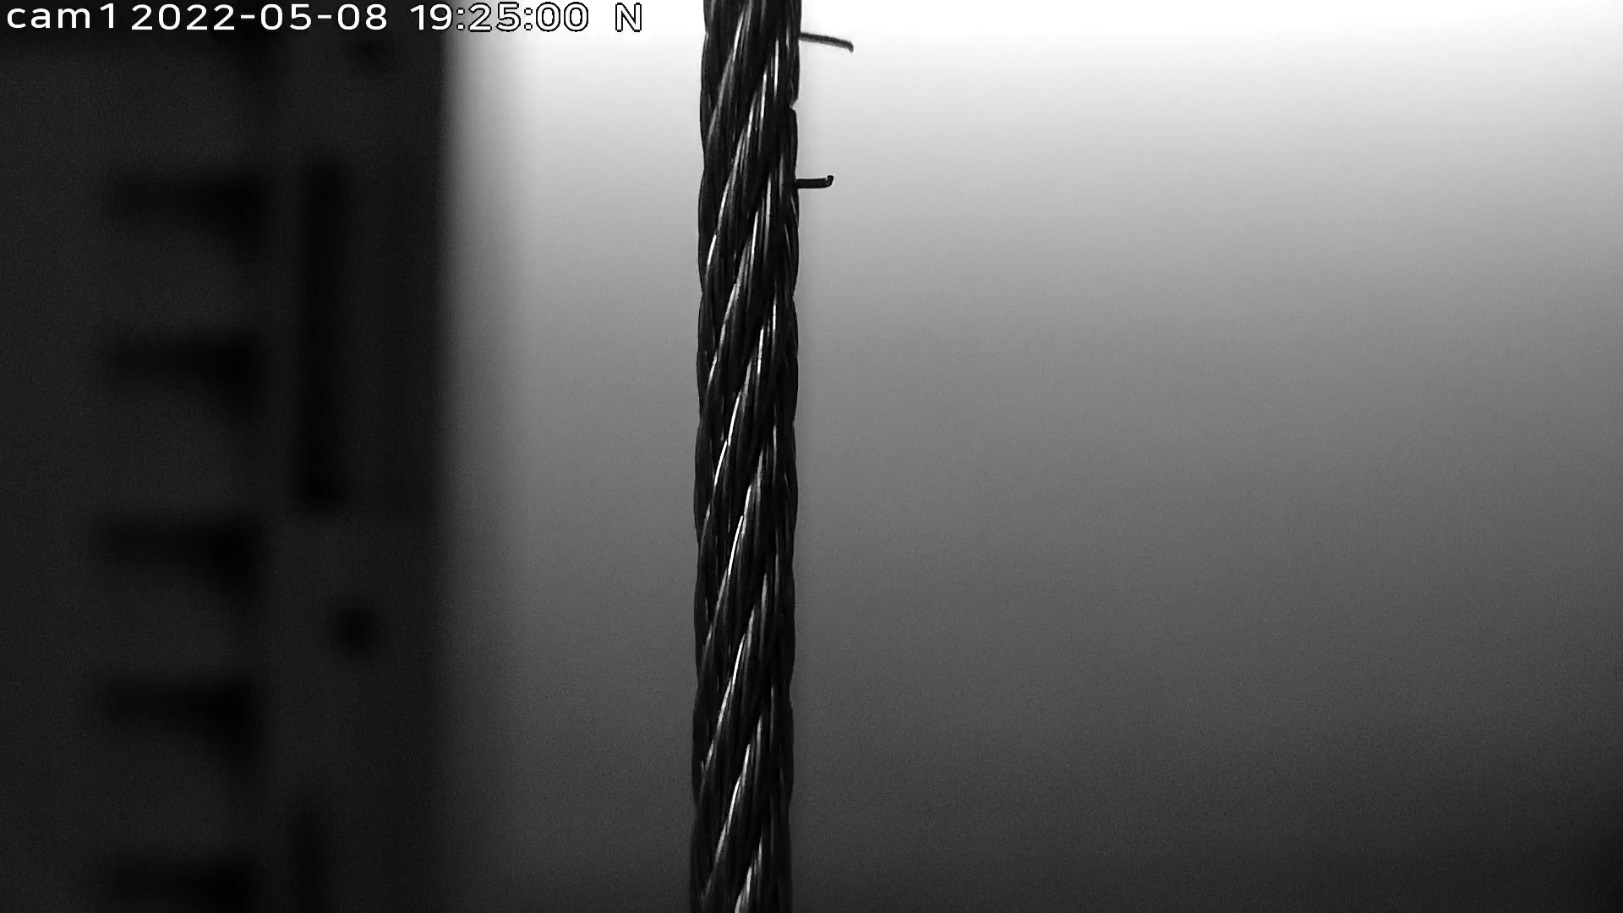gap: (797, 21, 856, 57), (793, 169, 839, 196)
